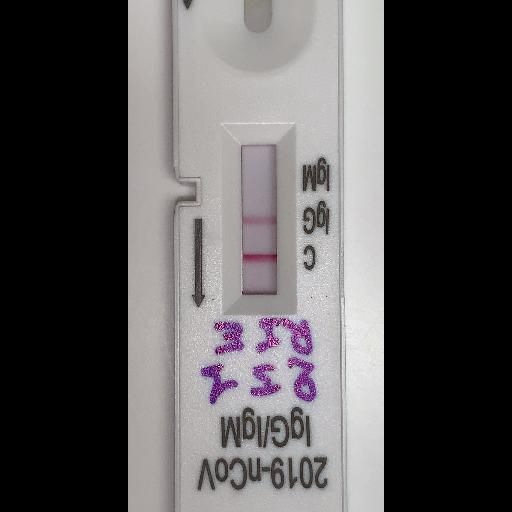Pos: (172, 0, 348, 511)
